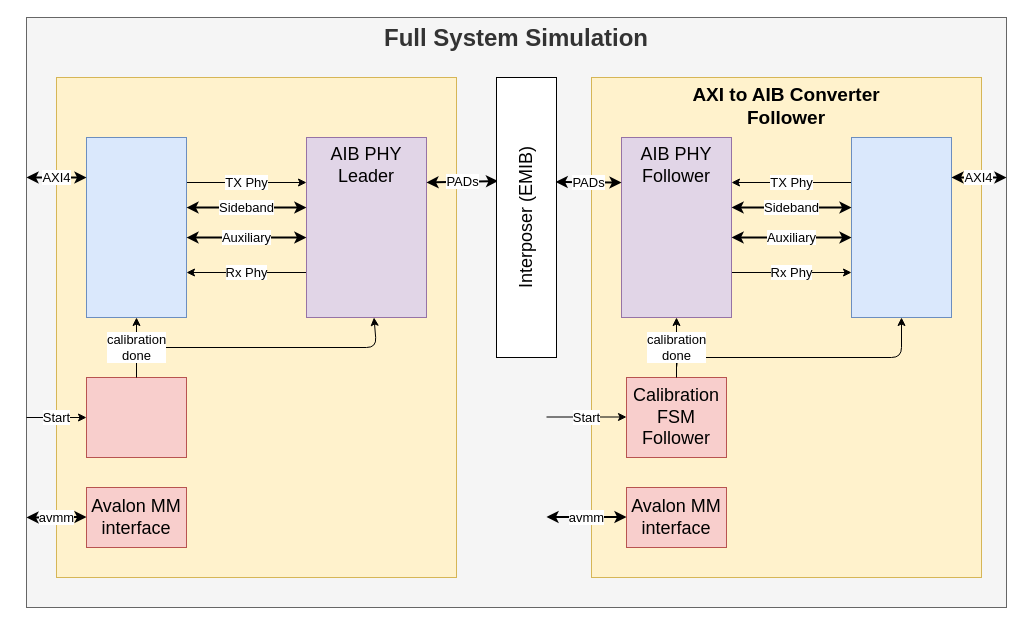
Some shapes in this 1033 by 625 pixel diagram are drawn without their labels. The box of each missing label's shape, as (x1, y1, x2, y2) in pixels:
AXI to AIB Converter Leader: (56, 76, 456, 578)
AXI-MM Follower: (850, 136, 952, 318)
AXI-MM Leader: (86, 136, 186, 318)
Calibration FSM Leader: (86, 376, 186, 458)
